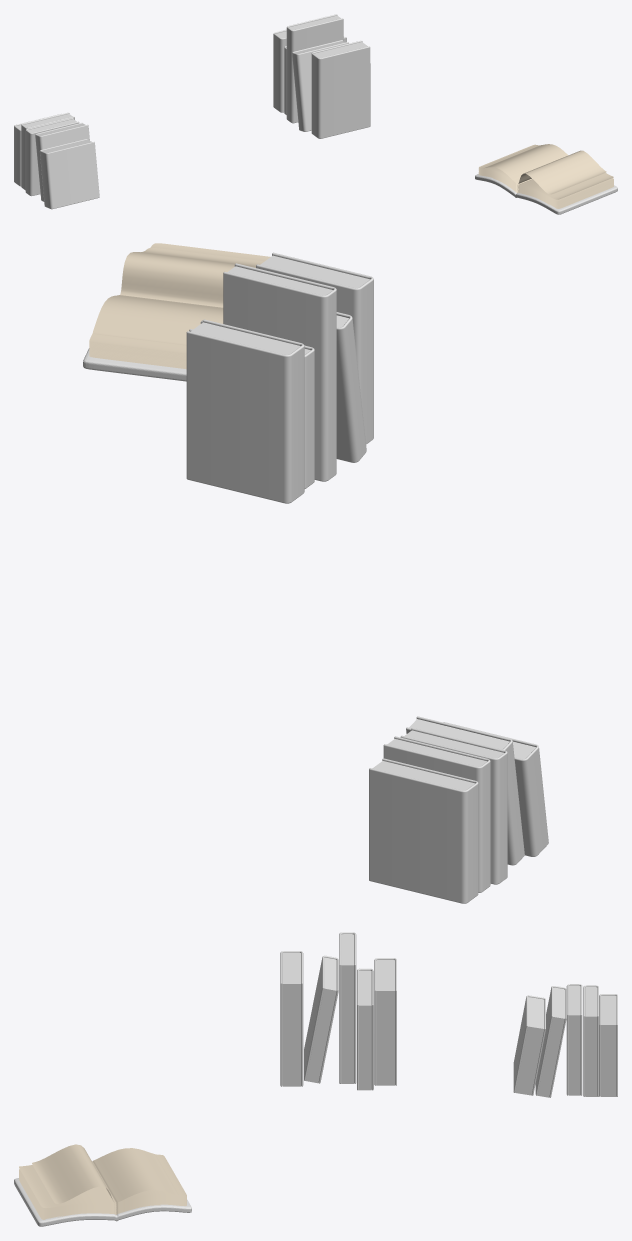
The model's file is livros revo.fbx.
The picture shows the model from 3 angles, top to bottom: view 1: azimuth 30°, elevation 25°; view 2: azimuth 150°, elevation 25°; view 3: azimuth 270°, elevation 25°; orthographic projection. The views are drawn at different scales.
Visible parts, largest first — view 1: decoracao_livro aberto|Cube.197|Dupli|1, decoracao_livros_1|Cube.135|Dupli|8, decoracao_livros_2|Cube.323|Dupli|5, decoracao_livros_1|Cube.131|Dupli|4, decoracao_livros_1|Cube.133|Dupli|6, decoracao_livros_2|Cube.321|Dupli|4, decoracao_livros_2|Cube.319|Dupli|3, decoracao_livros_1|Cube.081|Dupli|, decoracao_livro aberto|Cube.196|Dupli|, decoracao_livros_2|Cube.302|Dupli|, decoracao_livros_2|Cube.317|Dupli|1, decoracao_livros_1|Cube.136|Dupli|9; view 2: decoracao_livros_1|Cube.081|Dupli|, decoracao_livros_2|Cube.302|Dupli|, decoracao_livro aberto|Cube.197|Dupli|1, decoracao_livros_1|Cube.131|Dupli|4, decoracao_livros_1|Cube.135|Dupli|8, decoracao_livros_1|Cube.133|Dupli|6, decoracao_livros_2|Cube.317|Dupli|1, decoracao_livros_2|Cube.319|Dupli|3, decoracao_livros_2|Cube.323|Dupli|5, decoracao_livros_2|Cube.321|Dupli|4, decoracao_livros_1|Cube.129|Dupli|2, decoracao_livro aberto|Cube.196|Dupli| (+4 smaller); view 3: decoracao_livro aberto|Cube.197|Dupli|1, decoracao_livros_1|Cube.136|Dupli|9, decoracao_livros_1|Cube.128|Dupli|1, decoracao_livros_1|Cube.132|Dupli|5, decoracao_livros_2|Cube.324|Dupli|9, decoracao_livros_1|Cube.134|Dupli|7, decoracao_livros_2|Cube.303|Dupli|6, decoracao_livros_1|Cube.130|Dupli|3, decoracao_livro aberto|Cube.196|Dupli|, decoracao_livros_2|Cube.320|Dupli|7, decoracao_livros_2|Cube.318|Dupli|2, decoracao_livros_2|Cube.322|Dupli|8 (+10 smaller).
Boxes of the visible parts, box(x1,y1,x2,y2) form: decoracao_livro aberto|Cube.197|Dupli|1: box(478, 144, 613, 208); decoracao_livros_1|Cube.135|Dupli|8: box(311, 40, 370, 138); decoracao_livros_2|Cube.323|Dupli|5: box(39, 139, 99, 209); decoracao_livros_1|Cube.131|Dupli|4: box(286, 14, 343, 123); decoracao_livros_1|Cube.133|Dupli|6: box(292, 40, 348, 131); decoracao_livros_2|Cube.321|Dupli|4: box(35, 122, 89, 201); decoracao_livros_2|Cube.319|Dupli|3: box(25, 118, 79, 196); decoracao_livros_1|Cube.081|Dupli|: box(273, 29, 286, 112); decoracao_livro aberto|Cube.196|Dupli|: box(475, 174, 617, 214); decoracao_livros_2|Cube.302|Dupli|: box(14, 114, 61, 186); decoracao_livros_2|Cube.317|Dupli|1: box(21, 112, 74, 190); decoracao_livros_1|Cube.136|Dupli|9: box(314, 42, 367, 58); decoracao_livros_1|Cube.081|Dupli|: box(186, 319, 304, 503); decoracao_livros_2|Cube.302|Dupli|: box(369, 758, 478, 903); decoracao_livro aberto|Cube.197|Dupli|1: box(89, 243, 270, 369); decoracao_livros_1|Cube.131|Dupli|4: box(223, 263, 336, 481); decoracao_livros_1|Cube.135|Dupli|8: box(256, 252, 373, 444); decoracao_livros_1|Cube.133|Dupli|6: box(336, 312, 366, 462); decoracao_livros_2|Cube.317|Dupli|1: box(383, 736, 490, 892); decoracao_livros_2|Cube.319|Dupli|3: box(400, 728, 507, 884); decoracao_livros_2|Cube.323|Dupli|5: box(443, 722, 548, 856); decoracao_livros_2|Cube.321|Dupli|4: box(406, 716, 524, 865); decoracao_livros_1|Cube.129|Dupli|2: box(189, 320, 314, 488); decoracao_livro aberto|Cube.196|Dupli|: box(83, 348, 186, 381); decoracao_livro aberto|Cube.197|Dupli|1: box(19, 1144, 186, 1219); decoracao_livros_1|Cube.136|Dupli|9: box(282, 952, 300, 1086); decoracao_livros_1|Cube.128|Dupli|1: box(376, 960, 394, 1085); decoracao_livros_1|Cube.132|Dupli|5: box(341, 934, 353, 1083); decoracao_livros_2|Cube.324|Dupli|9: box(515, 997, 544, 1095); decoracao_livros_1|Cube.134|Dupli|7: box(306, 957, 336, 1083); decoracao_livros_2|Cube.303|Dupli|6: box(601, 995, 616, 1096); decoracao_livros_1|Cube.130|Dupli|3: box(359, 970, 371, 1090); decoracao_livro aberto|Cube.196|Dupli|: box(14, 1178, 191, 1226); decoracao_livros_2|Cube.320|Dupli|7: box(568, 985, 580, 1095); decoracao_livros_2|Cube.318|Dupli|2: box(585, 987, 597, 1096); decoracao_livros_2|Cube.322|Dupli|8: box(537, 987, 564, 1097).
Bounding box in the file's own units: 1266 × 593 × 1338.
